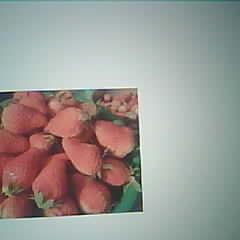straw-ripe: (5, 147, 41, 193), (34, 158, 68, 203), (63, 135, 102, 174), (3, 101, 46, 134)
